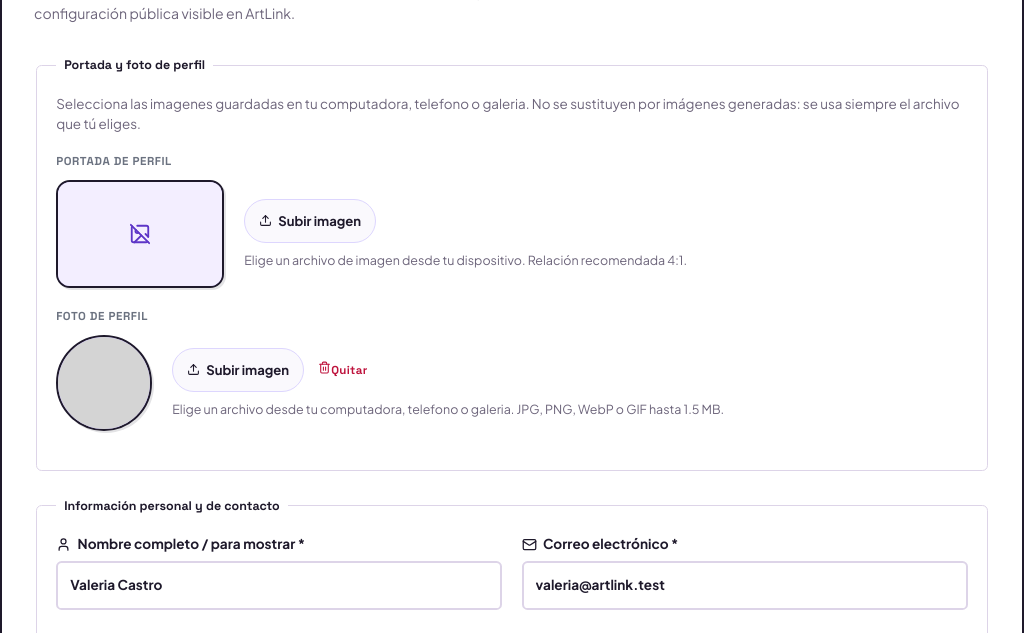
ProfileSettingsSection - Modificación de Perfil › renderiza la información real del cliente autenticado y permite actualizarla
This screenshot has width=1024, height=633.
Expected: the field labelled "Correo electrónico *" holds "valeria@artlink.test", [522, 561, 968, 610]
Modificar nombre
Replace the text in the field labelled "Nombre completo / para mostrar *" with "Valeria Robles" at (279, 586), box [56, 561, 502, 610]
(page scrolled)
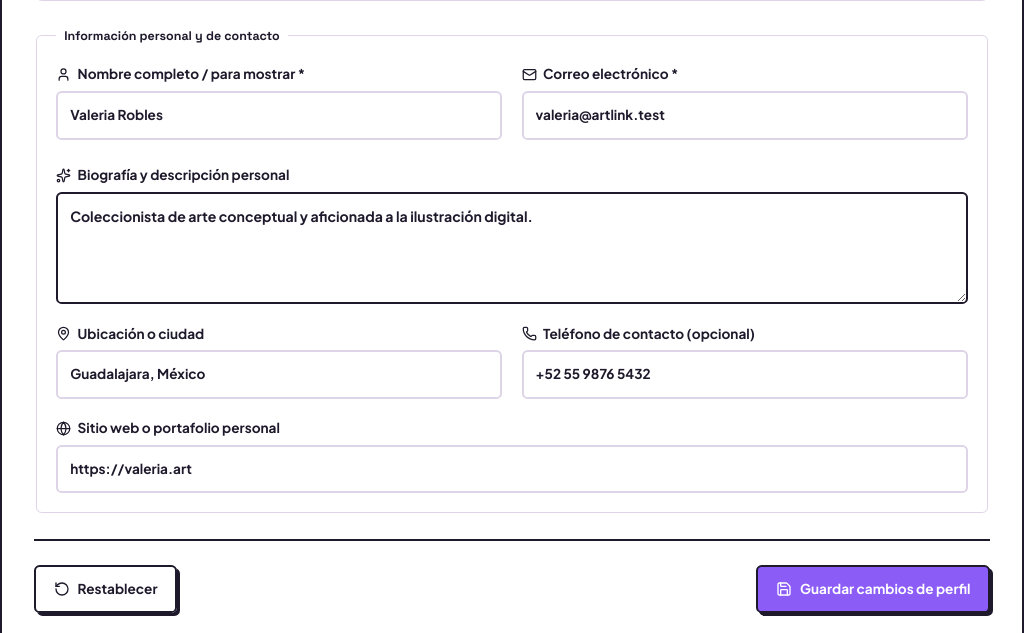
Guardar cambios
Click the button "Guardar cambios de perfil".
click(873, 589)  # box [756, 565, 990, 613]
(page scrolled)
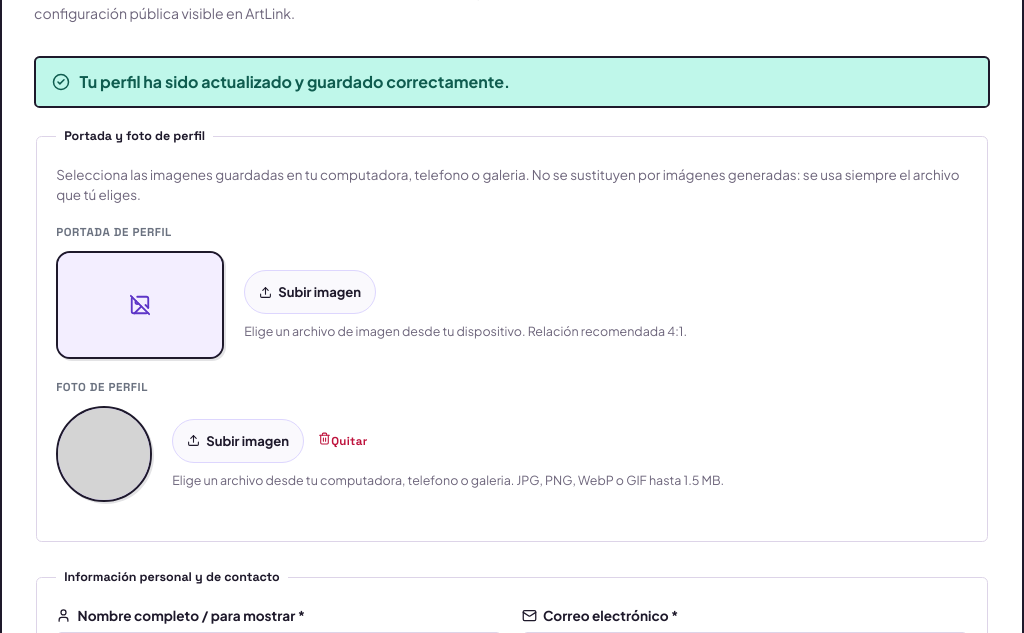
Result: the text "Tu perfil ha sido actualizado y guardado correctamente." is shown at [80, 70, 510, 94]
